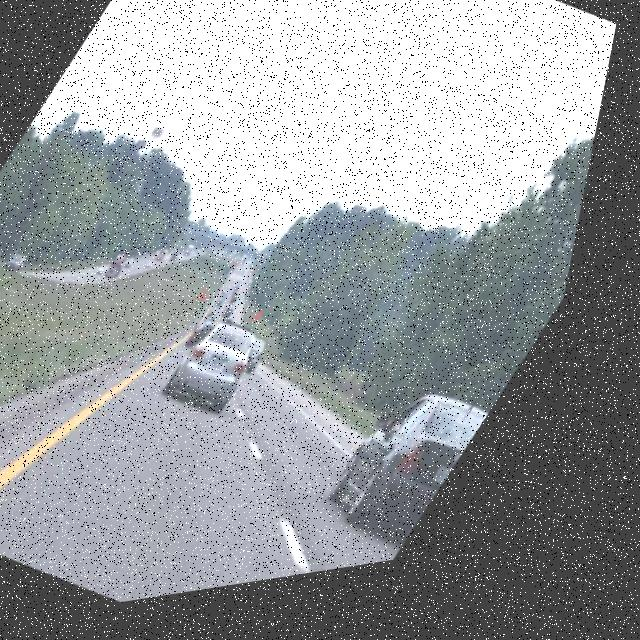license_plate: (450, 482, 475, 508), (225, 364, 242, 380)
